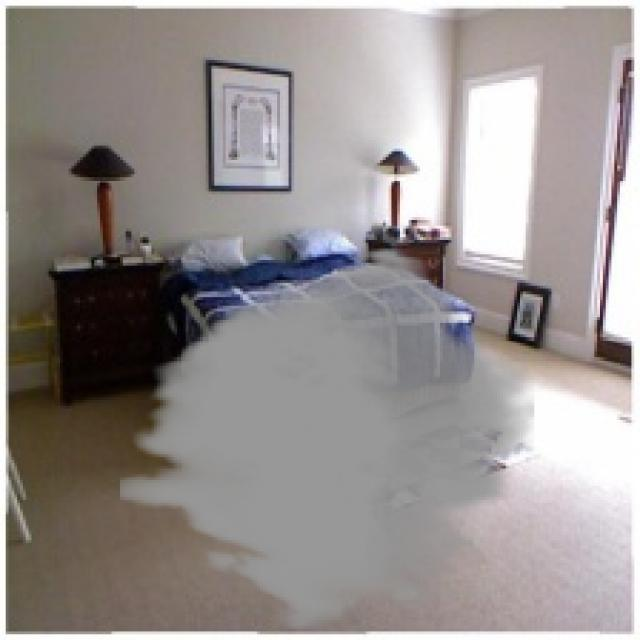smoke: (120, 246, 534, 631)
